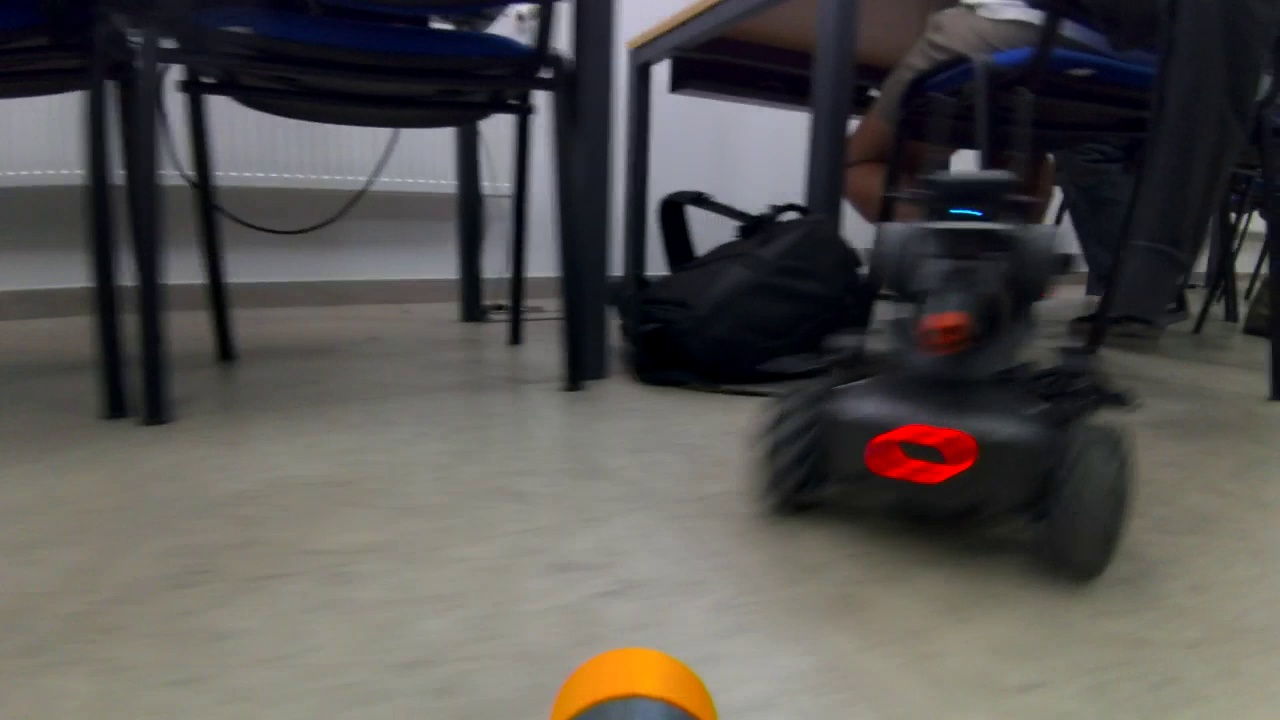robot: (771, 174, 1137, 591)
